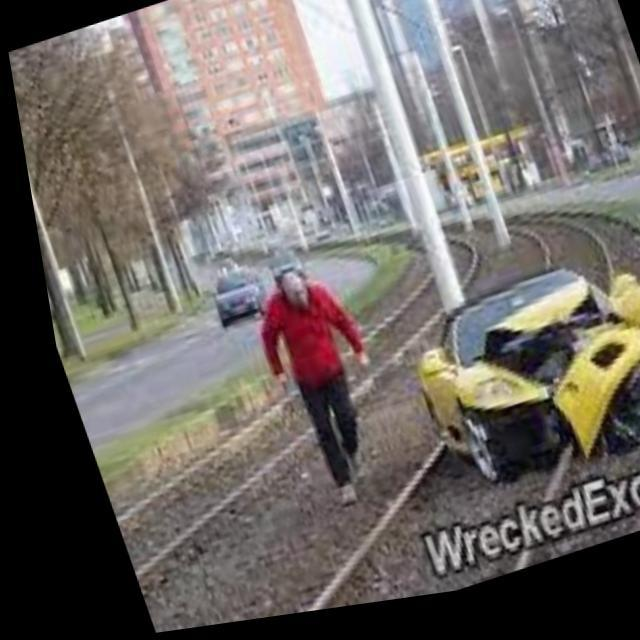crash: (451, 295, 640, 470)
